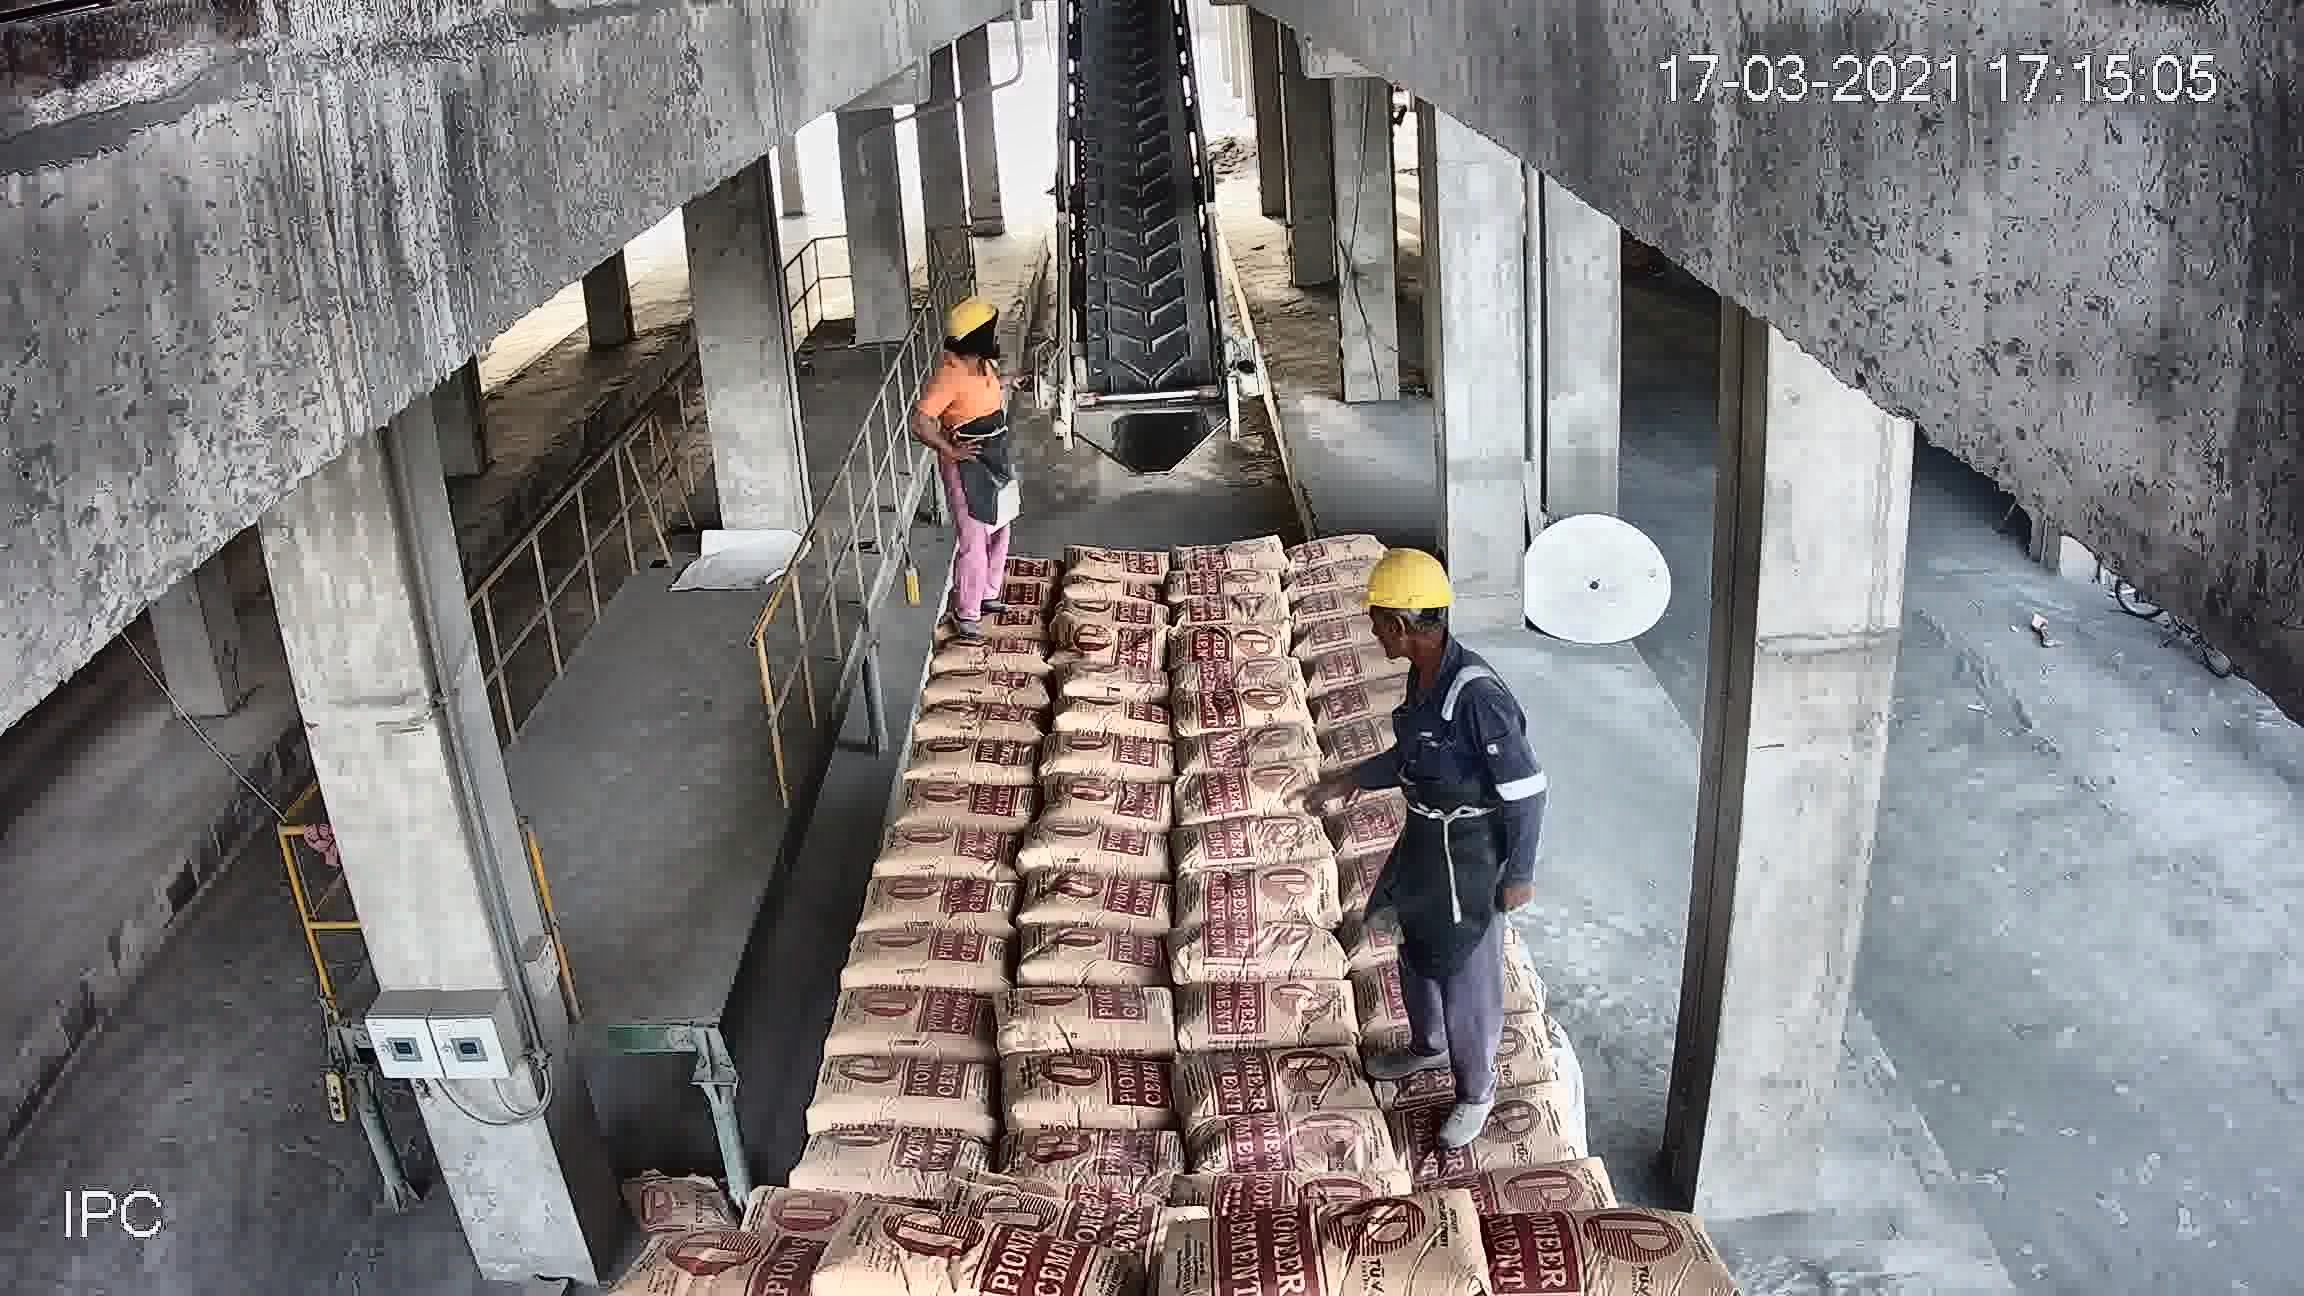bag_h: (1199, 1204, 1513, 1294), (809, 1218, 1124, 1296), (1362, 1076, 1557, 1190), (1442, 1211, 1703, 1291), (1198, 1109, 1400, 1192), (809, 1055, 1008, 1135), (1192, 1044, 1370, 1131), (1008, 1048, 1188, 1128), (639, 1226, 850, 1294), (999, 986, 1185, 1062), (828, 980, 1005, 1059), (786, 1127, 999, 1188), (1180, 976, 1362, 1048), (1174, 923, 1359, 992), (858, 870, 1024, 942), (1435, 1161, 1616, 1226), (839, 927, 1013, 994), (1005, 1122, 1187, 1185), (1021, 815, 1169, 888), (1180, 864, 1332, 934), (1173, 758, 1323, 826), (1177, 810, 1329, 877), (1041, 771, 1187, 836), (1014, 934, 1176, 991), (894, 782, 1041, 837), (1030, 877, 1180, 930), (904, 734, 1044, 791), (870, 831, 1017, 883), (908, 696, 1057, 745), (1177, 685, 1320, 734), (1062, 609, 1166, 673), (1180, 726, 1312, 775), (1171, 655, 1302, 703), (913, 666, 1049, 711), (1060, 657, 1176, 707), (1051, 741, 1177, 786), (1171, 620, 1290, 663), (1057, 699, 1166, 745), (1063, 540, 1174, 584), (934, 630, 1046, 673), (1169, 590, 1293, 627), (1166, 529, 1298, 562), (1168, 565, 1287, 601), (1287, 524, 1385, 563), (1060, 600, 1173, 633), (1055, 573, 1166, 606)
belt: (1059, 21, 1218, 415)
